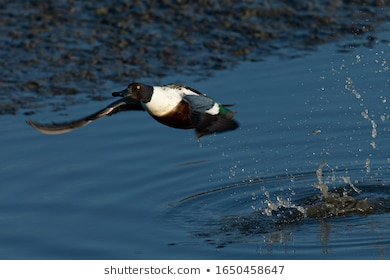duck: (19, 72, 276, 172)
